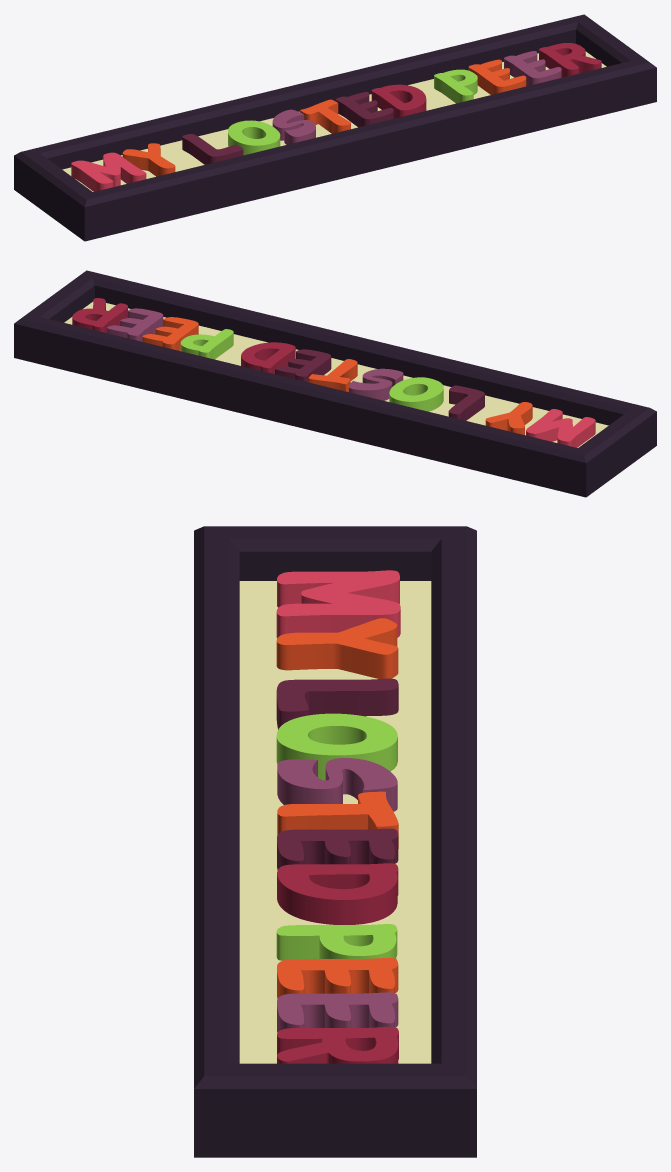
Rendered from title.fbx.
3 views of the same model, one above another, from view 1: azimuth 30°, elevation 25°; view 2: azimuth 150°, elevation 25°; view 3: azimuth 270°, elevation 25° (orthographic). The views are drawn at different scales.
Visible parts, largest first — view 1: Cube, My Losted Peer; view 2: Cube, My Losted Peer; view 3: Cube, My Losted Peer.
Boxes of the visible parts, x1,y1,x2,y2 form: Cube: (14, 14, 656, 241); My Losted Peer: (71, 43, 601, 191); Cube: (14, 270, 656, 497); My Losted Peer: (72, 298, 595, 447); Cube: (194, 526, 476, 1157); My Losted Peer: (276, 570, 400, 1063).
Size of the model in its own units: 868 by 56.16 by 186.
